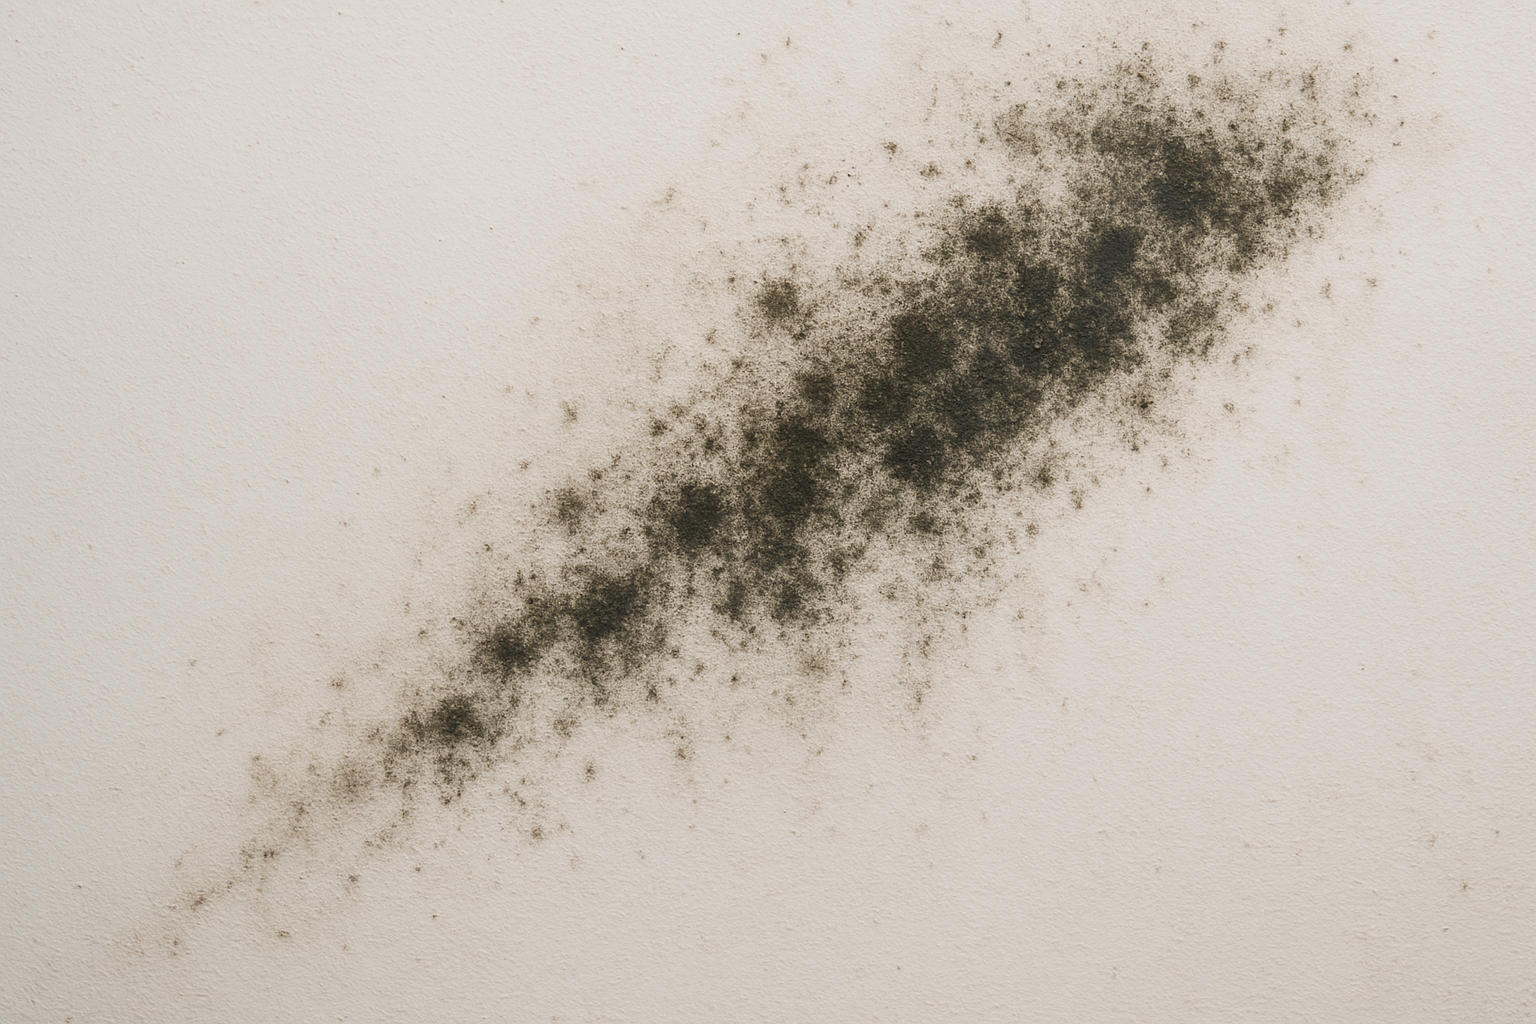schimmel: (859, 240, 1058, 490), (558, 483, 719, 663), (1081, 134, 1256, 293), (757, 305, 851, 560), (381, 637, 496, 782)
